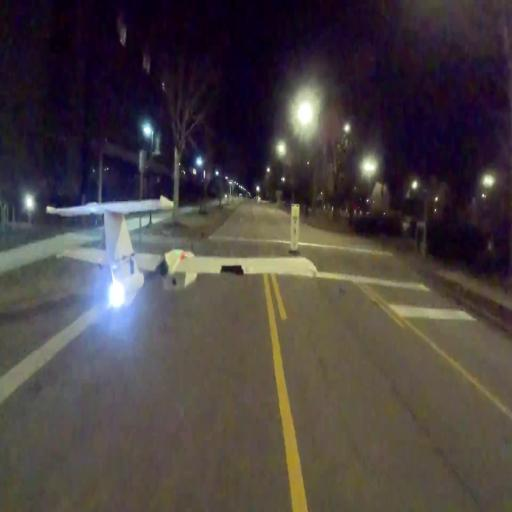uav: (42, 200, 318, 311)
